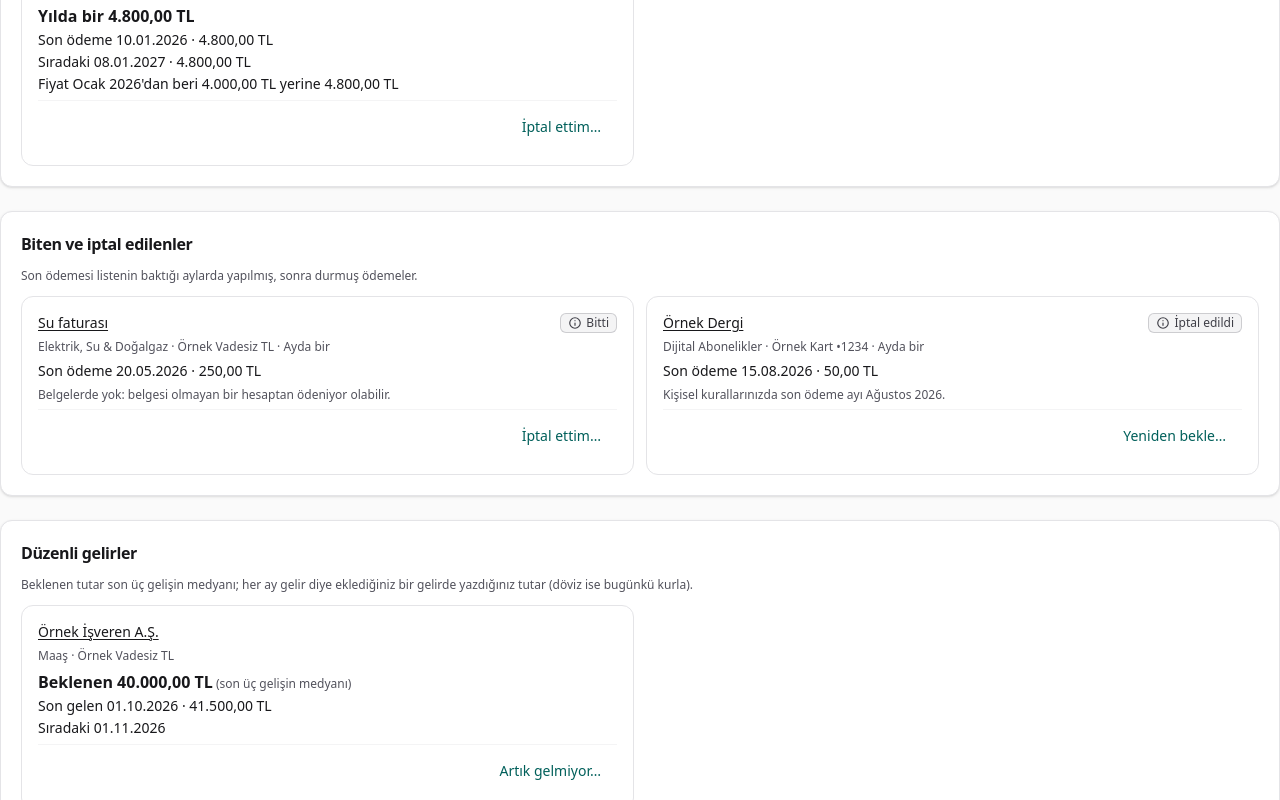
SubscriptionsPage › expects a cancelled payment again: the change previewed, then saved
(page scrolled)
Click the button with aria-label "Yeniden bekle: Örnek Dergi". click: coordinates (1175, 436)
box: [1107,414,1242,458]
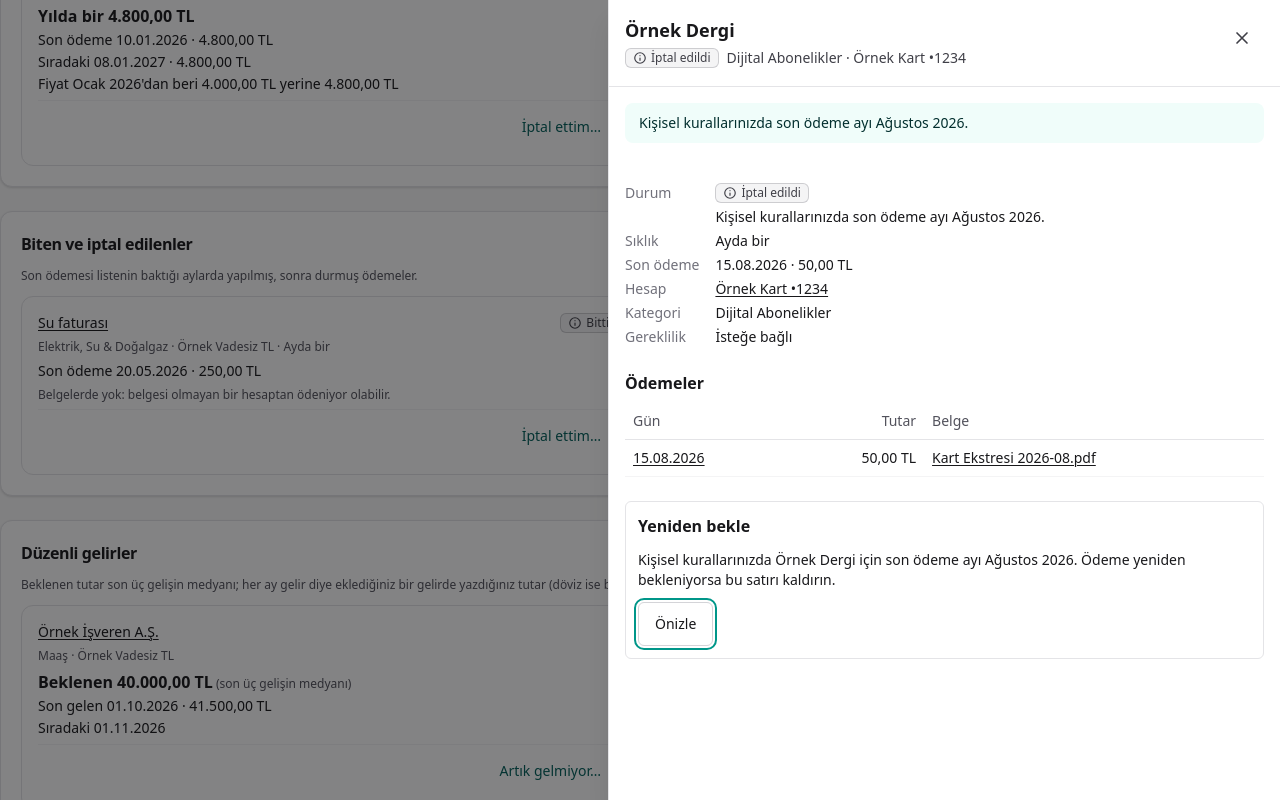
Click the button "Önizle". click: coordinates (676, 624)
box: [638,602,713,646]
(page scrolled)
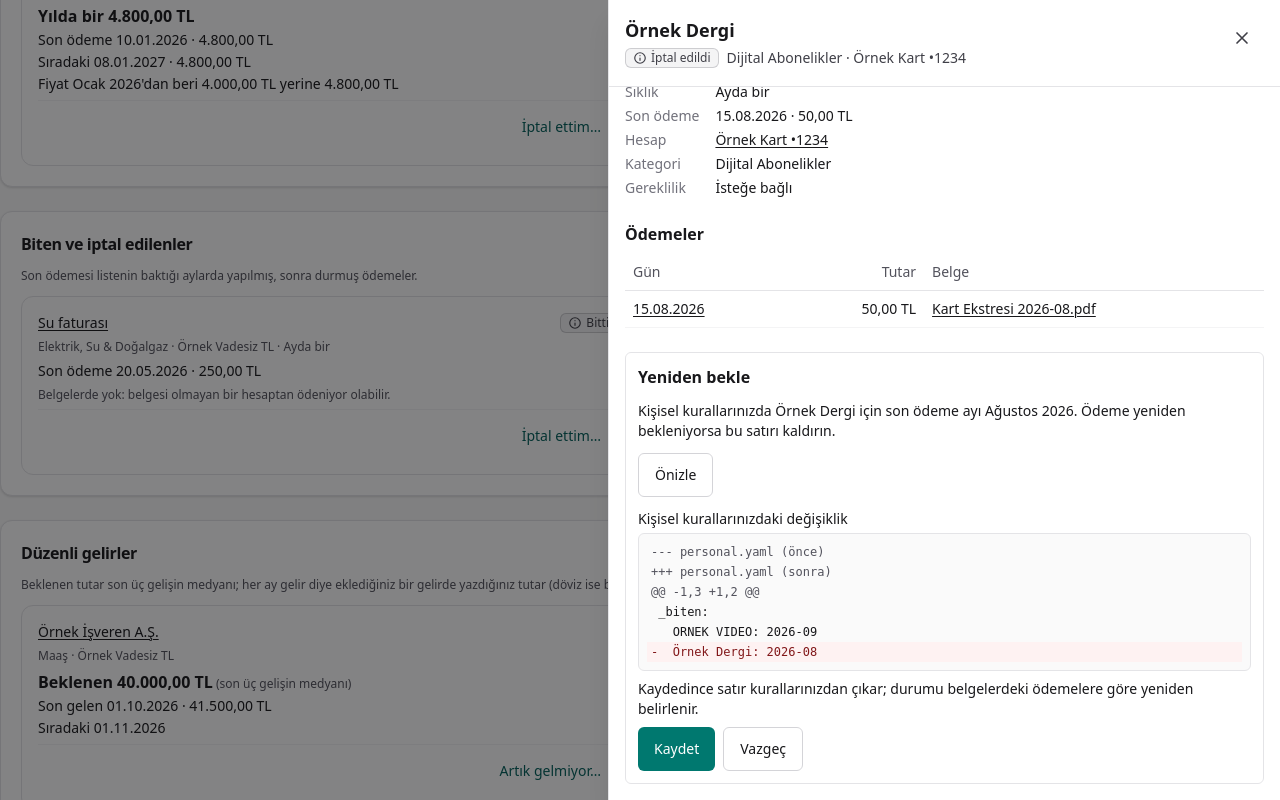
Expected: the element "Kişisel kurallarınızdaki değişiklik" shows "- Örnek Dergi: 2026-08", [651,645,817,659]
Click the button "Kaydet". click: coordinates (677, 749)
box: [638,727,715,771]
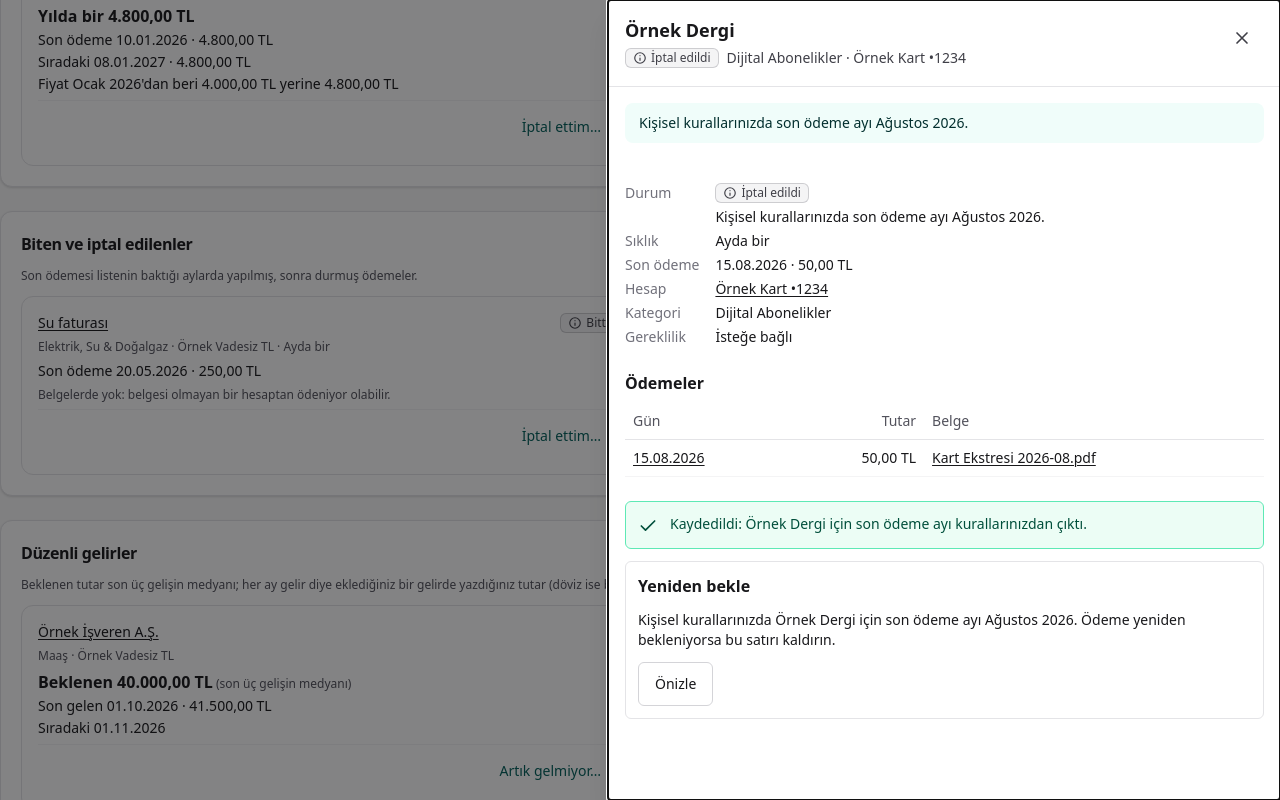
Expected: the text "Kaydedildi: Örnek Dergi için son ödeme ayı kurallarınızdan çıktı." is shown, [670,514,1087,534]
